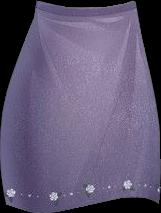Hemline: (5, 195, 160, 212)
Waistline: (36, 0, 134, 8)
